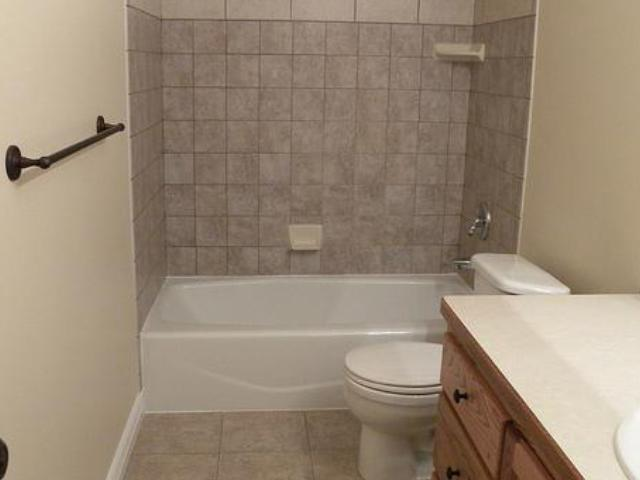Lavamanos: (609, 387, 640, 480)
Sanitario: (330, 253, 573, 480)
